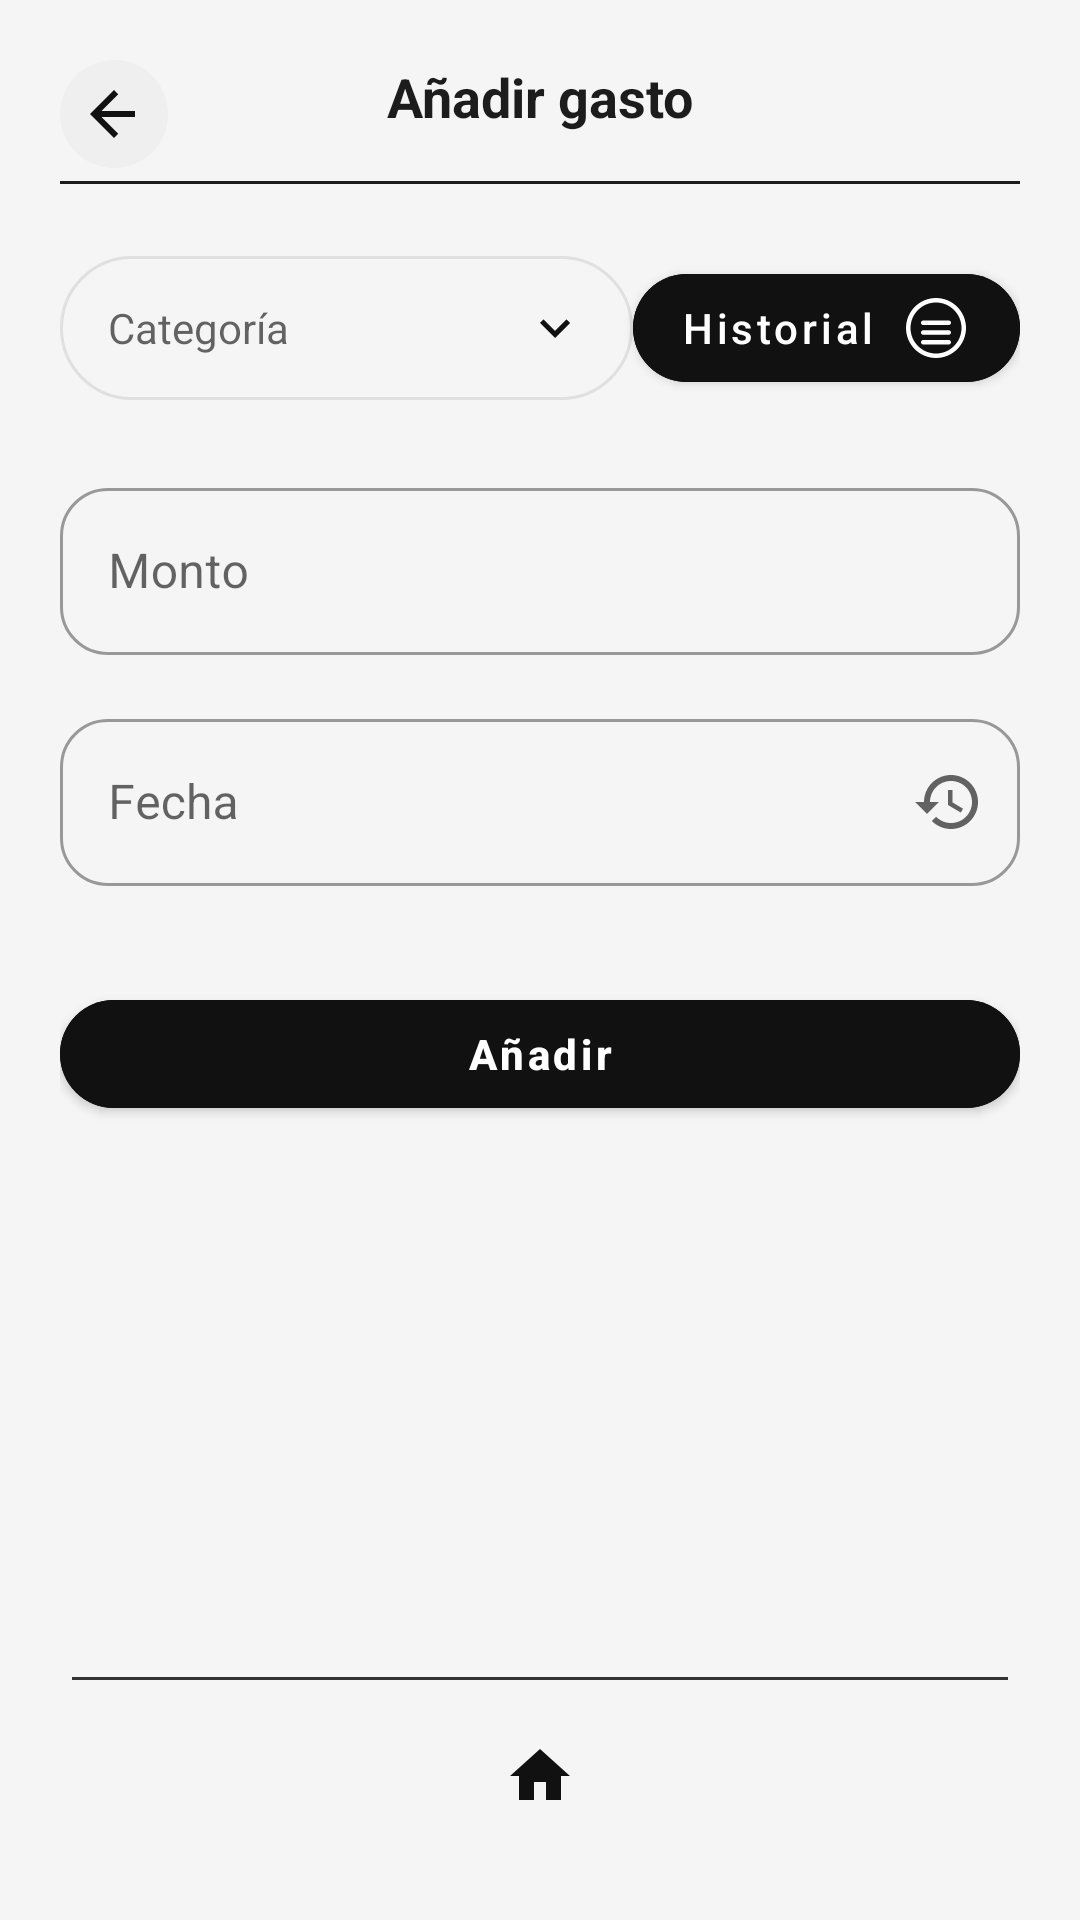

Screen size 1080w x 1920h. Icon name, then its box in pixels as (x1, y1, x2, y2):
back: (90, 90, 135, 138)
home: (510, 1749, 570, 1800)
